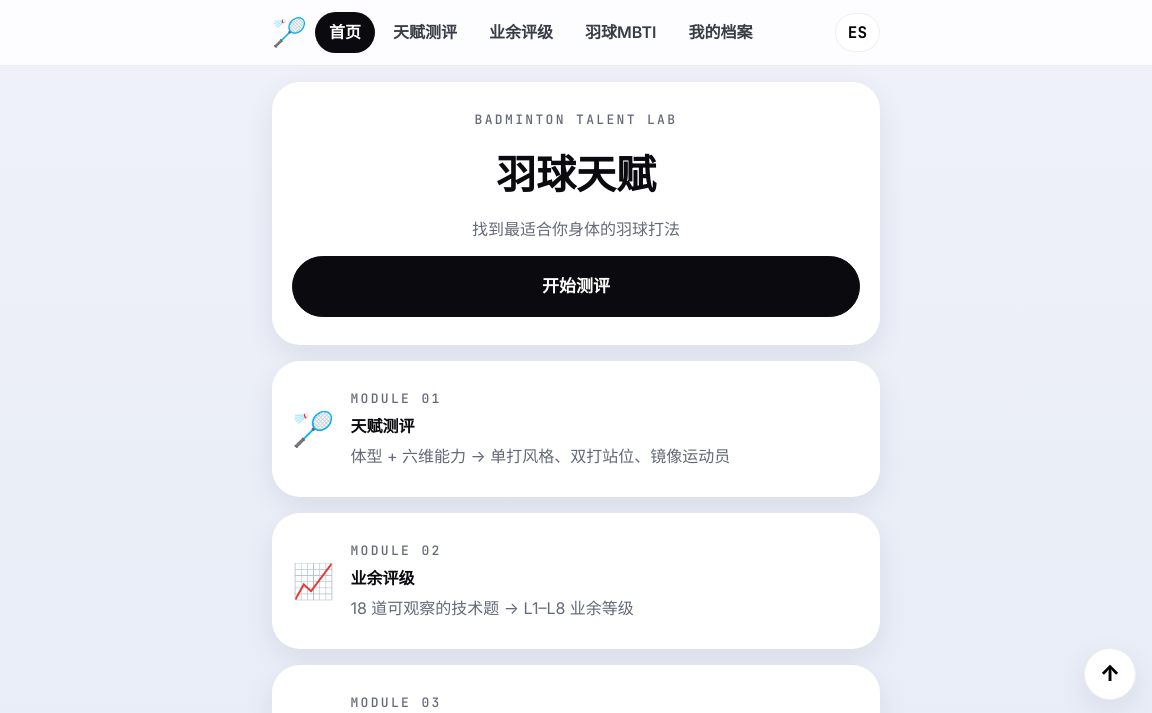
Test: muestra las 5 pestañas en chino y cambia a español
The width and height of the screenshot is (1152, 713).
Expected: the link "首页" is shown, [315,12,375,53]
Expected: the link "天赋测评" is shown, [393,22,457,42]
Click the button with aria-label "切换到西班牙语".
click(857, 32)  # box [835,13,880,52]
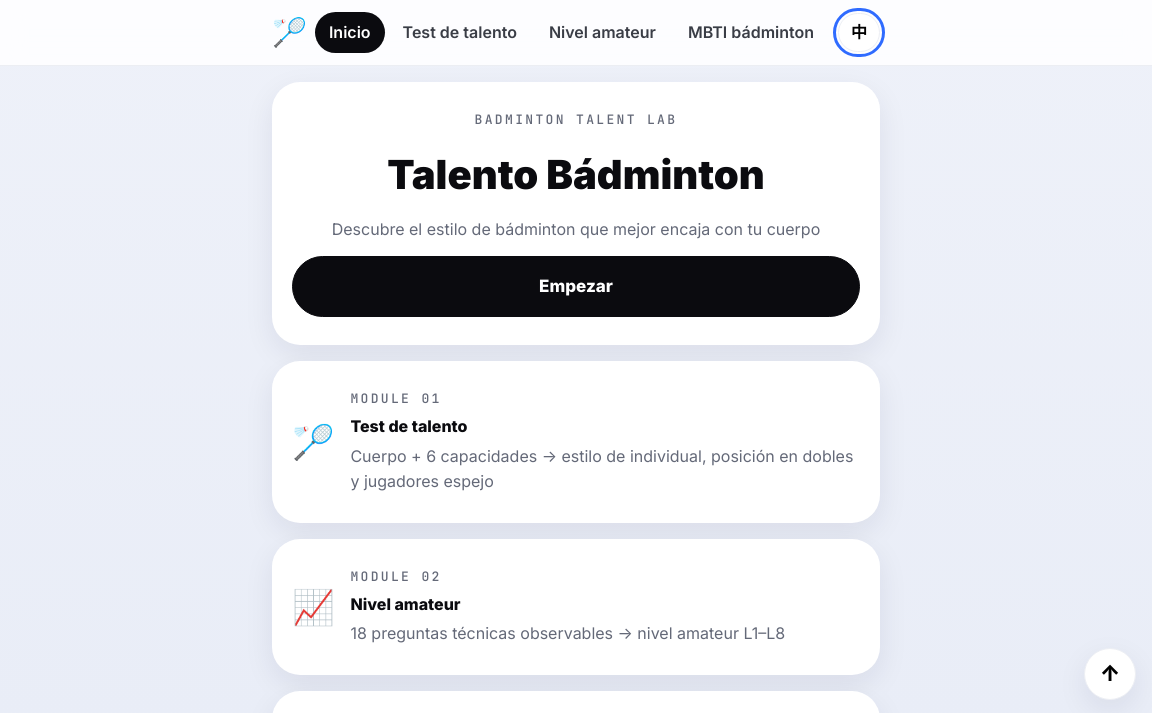
Expected: the link "Test de talento" is shown, [403,22,517,42]
